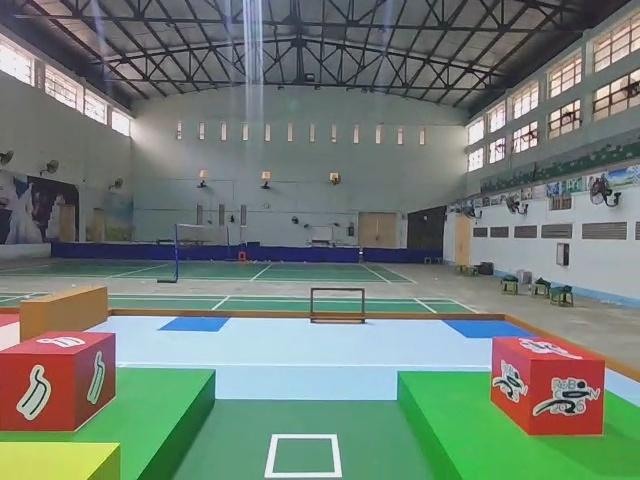R1: (486, 335, 606, 440)
R2 Real: (0, 327, 120, 433)
